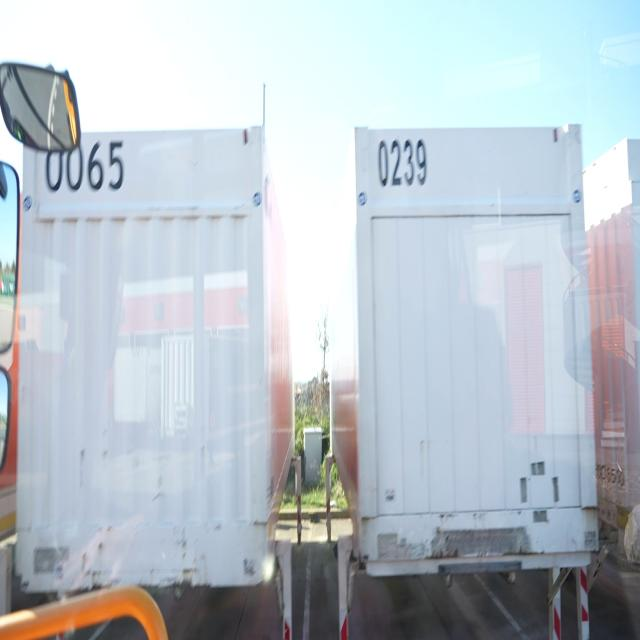Code: (42, 132, 130, 203), (373, 130, 435, 197)
